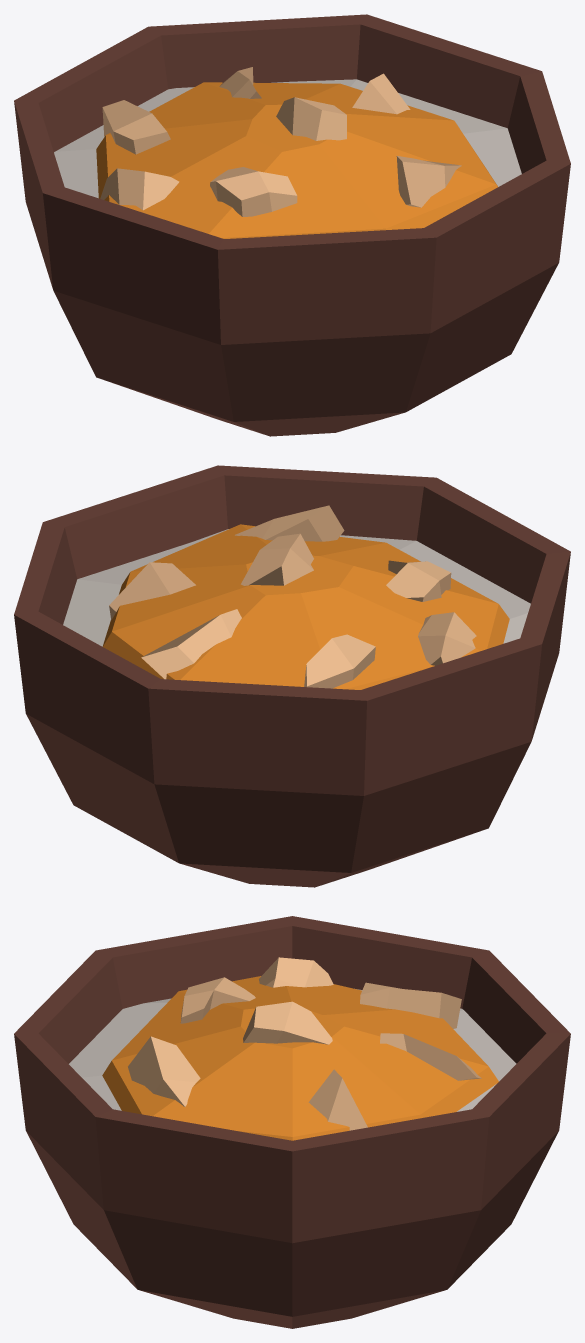
File: Chicken Curry.fbx
3 views of the same model, one above another, from view 1: azimuth 30°, elevation 25°; view 2: azimuth 150°, elevation 25°; view 3: azimuth 270°, elevation 25° (orthographic). The views are drawn at different scales.
Visible parts, largest first — view 1: Chicken curry bowl; view 2: Chicken curry bowl; view 3: Chicken curry bowl.
Part boxes in pixels (bbox=[...]): Chicken curry bowl: bbox=[14, 14, 570, 436]; Chicken curry bowl: bbox=[14, 465, 570, 887]; Chicken curry bowl: bbox=[14, 916, 570, 1328].
Size of the model in its own units: 53.7 by 31.17 by 53.7.
